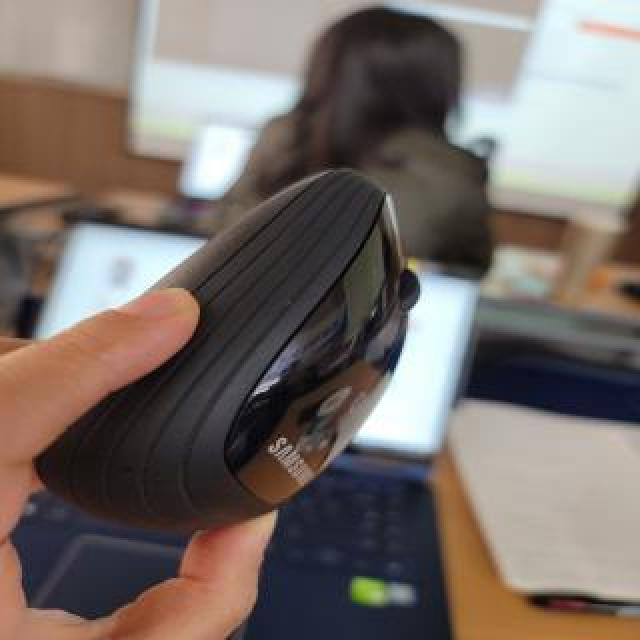mouse: (97, 178, 398, 520)
